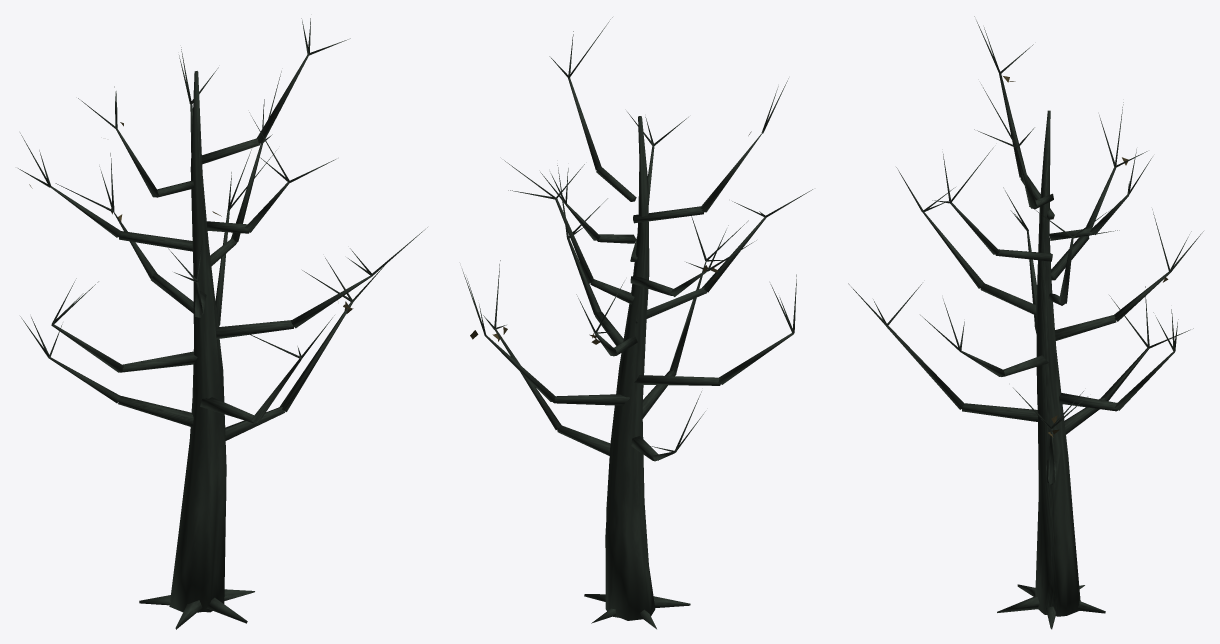
The model's file is tree_dead_lod.glb.
The picture shows the model from 3 angles, left to right: view 1: azimuth 30°, elevation 25°; view 2: azimuth 150°, elevation 25°; view 3: azimuth 270°, elevation 25°; orthographic projection. The views are drawn at different scales.
Parts seen in each view (by area): view 1: Twisted_bark_trunk.003, Main_branch.043, Main_branch.047, Main_branch.046, Bent_branch.042, Main_branch.051, Main_branch.044, Main_branch.042; view 2: Twisted_bark_trunk.003, Main_branch.046, Main_branch.045, Main_branch.054, Main_branch.042, Bent_branch.042, Main_branch.049, Bent_branch.044, Bent_branch.046, Bent_branch.049; view 3: Twisted_bark_trunk.003, Main_branch.044, Main_branch.048, Bent_branch.044, Main_branch.045, Main_branch.049, Bent_branch.049, Bent_branch.054.
Boxes of the visible parts, <box> form: Twisted_bark_trunk.003: <box>169,71,226,612</box>; Main_branch.043: <box>118,395,193,427</box>; Main_branch.047: <box>216,320,293,338</box>; Main_branch.046: <box>119,351,197,372</box>; Bent_branch.042: <box>279,302,352,411</box>; Main_branch.051: <box>119,231,192,251</box>; Main_branch.044: <box>200,397,256,423</box>; Main_branch.042: <box>225,407,284,440</box>; Twisted_bark_trunk.003: <box>605,116,655,620</box>; Main_branch.046: <box>634,375,720,385</box>; Main_branch.045: <box>553,394,629,405</box>; Main_branch.054: <box>633,206,703,223</box>; Main_branch.042: <box>557,425,610,455</box>; Bent_branch.042: <box>495,329,561,429</box>; Main_branch.049: <box>635,287,706,323</box>; Bent_branch.044: <box>670,261,706,373</box>; Bent_branch.046: <box>718,333,793,384</box>; Bent_branch.049: <box>702,217,766,292</box>; Twisted_bark_trunk.003: <box>1035,110,1080,616</box>; Main_branch.044: <box>962,403,1037,421</box>; Main_branch.048: <box>1055,315,1116,340</box>; Bent_branch.044: <box>886,325,964,409</box>; Main_branch.045: <box>1059,393,1117,411</box>; Main_branch.049: <box>980,283,1036,315</box>; Bent_branch.049: <box>922,212,983,288</box>; Bent_branch.054: <box>999,73,1026,177</box>.
Bounding box in the file's own units: 4.92 × 8.59 × 5.04.
Materials: 2 (2 with a texture image).
